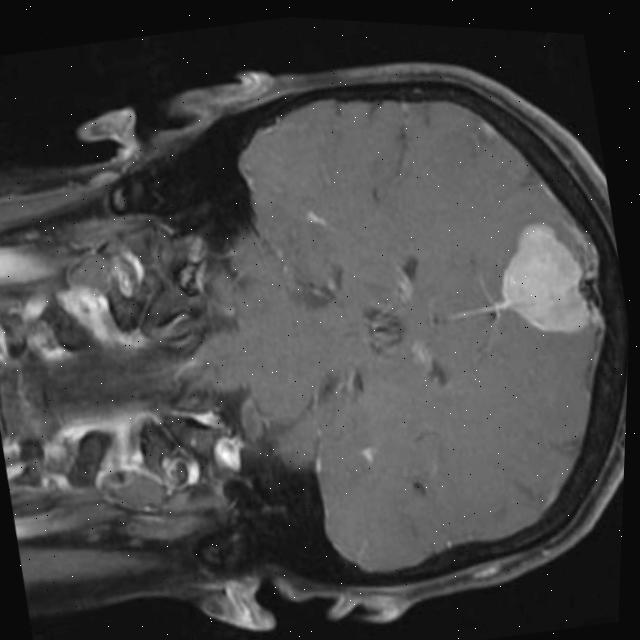Meningioma: (474, 210, 602, 349)
